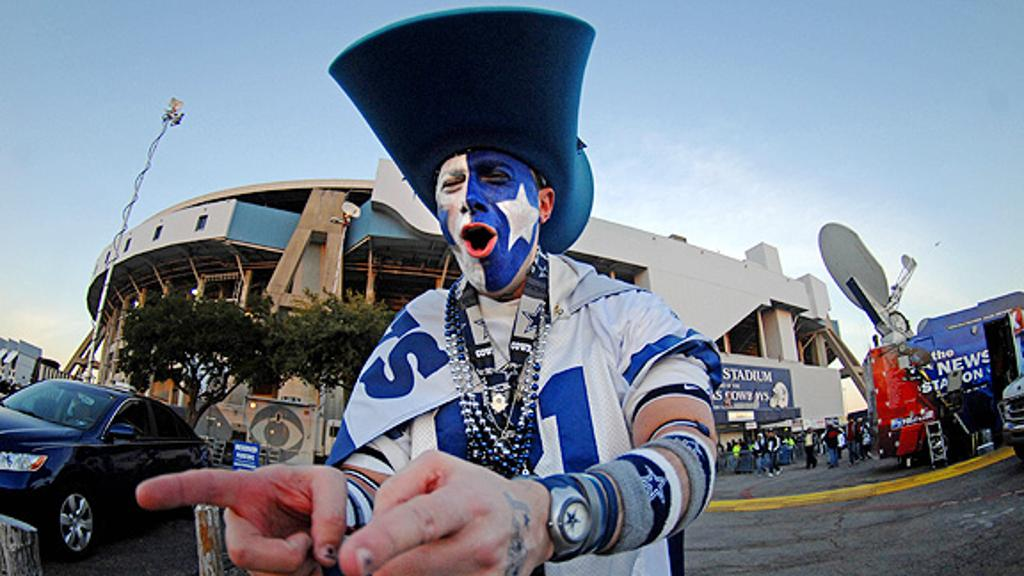face: (434, 128, 538, 286)
